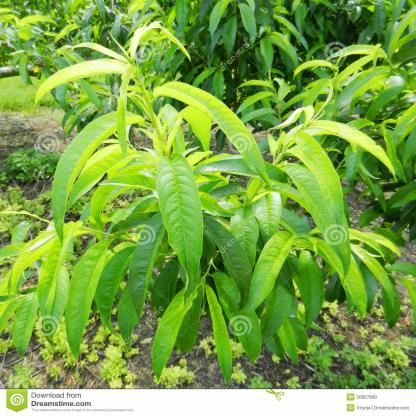peach leaf: (151, 79, 270, 187), (52, 110, 147, 242), (64, 236, 125, 366), (153, 147, 202, 304), (283, 165, 351, 274), (147, 280, 204, 391), (211, 269, 262, 362), (292, 130, 341, 226), (202, 218, 255, 303), (246, 230, 297, 316), (130, 209, 169, 319), (203, 274, 234, 388), (295, 249, 326, 334), (9, 291, 42, 365), (198, 159, 290, 183)
